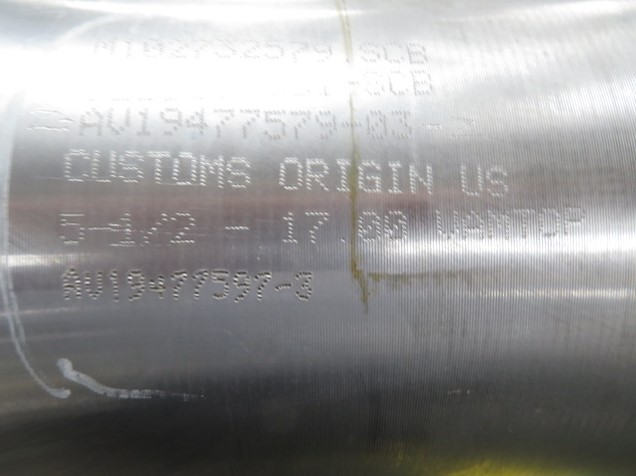character: (55, 145, 91, 186), (404, 159, 439, 197), (115, 149, 147, 187), (170, 148, 199, 189), (433, 206, 465, 242), (302, 156, 333, 193), (196, 152, 225, 191), (57, 209, 86, 247), (355, 209, 386, 244), (169, 210, 200, 245), (276, 155, 305, 192), (381, 208, 410, 245), (105, 103, 134, 140), (90, 148, 116, 189), (509, 205, 537, 243), (145, 147, 171, 187), (356, 159, 384, 196), (483, 207, 513, 241), (235, 105, 263, 141), (303, 209, 332, 243), (224, 156, 252, 190), (58, 269, 86, 303), (561, 200, 586, 237), (262, 108, 290, 141), (537, 204, 563, 239), (458, 162, 486, 194), (459, 210, 487, 242), (78, 105, 105, 138), (484, 161, 508, 198), (81, 270, 109, 301), (157, 106, 185, 137), (293, 267, 316, 304), (288, 109, 313, 143), (333, 157, 354, 197), (314, 106, 338, 140), (119, 209, 140, 247), (187, 106, 211, 139), (212, 104, 235, 138), (387, 159, 408, 196), (124, 269, 148, 301), (231, 268, 252, 304), (403, 39, 430, 67), (408, 67, 434, 96), (262, 36, 287, 66), (364, 108, 388, 139), (210, 269, 233, 301), (281, 208, 301, 244), (170, 269, 191, 303), (254, 269, 274, 304), (384, 69, 412, 94), (392, 106, 413, 139), (141, 34, 167, 60), (312, 39, 335, 68), (136, 104, 154, 141), (380, 38, 405, 64), (191, 38, 215, 65), (216, 35, 239, 63), (356, 40, 383, 63), (192, 269, 210, 302), (108, 268, 124, 305), (290, 39, 310, 68), (168, 36, 190, 62), (146, 271, 166, 298), (243, 37, 263, 64)
